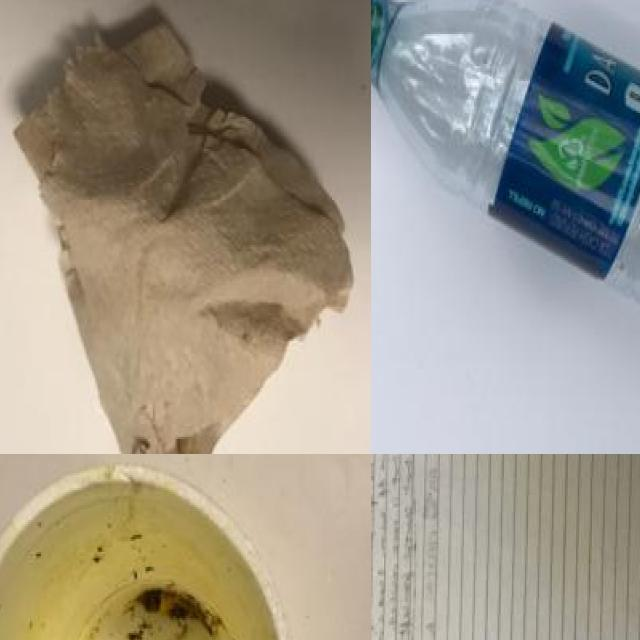paper: (371, 454, 640, 640)
plastic: (371, 0, 640, 361)
trash: (0, 0, 371, 454), (0, 454, 306, 640)
